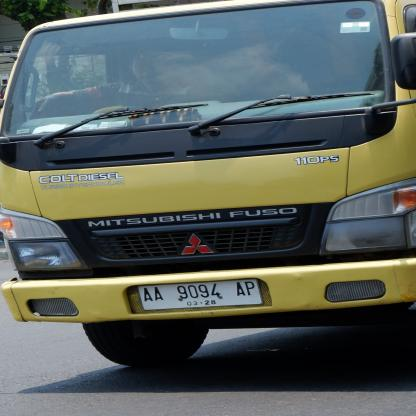Plat-Nomor: (133, 277, 269, 310)
